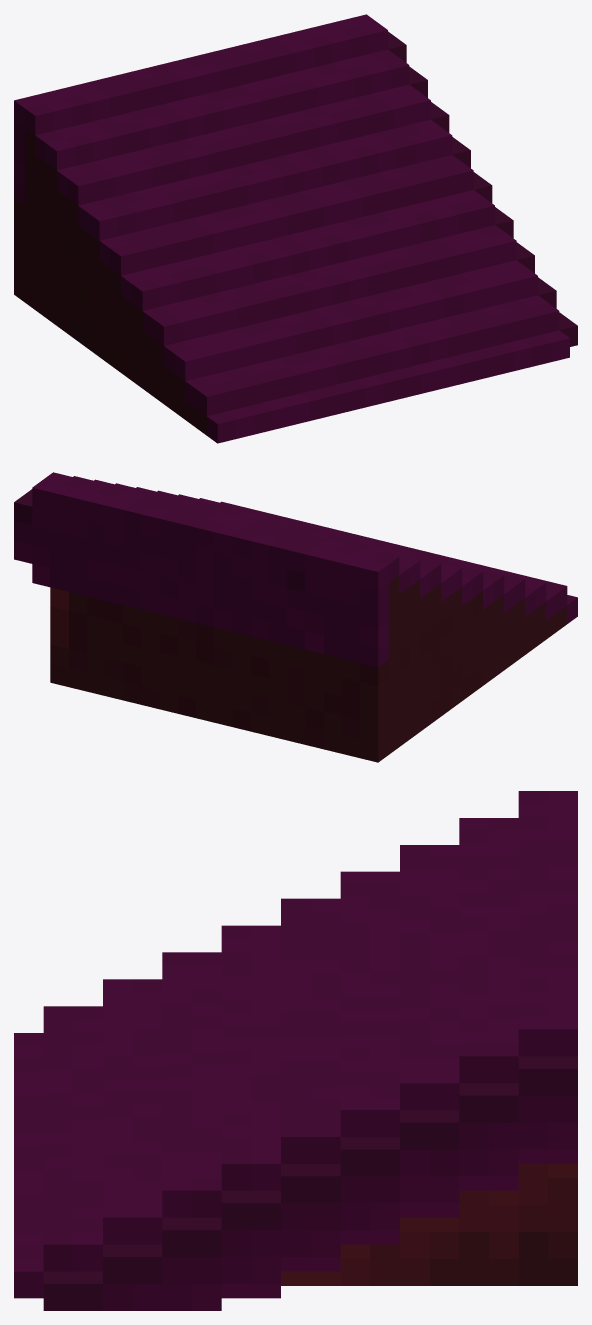
Rendered from half_top_ramp_bot_right.glb.
3 views of the same model, one above another, from view 1: azimuth 30°, elevation 25°; view 2: azimuth 150°, elevation 25°; view 3: azimuth 270°, elevation 25° (orthographic). The views are drawn at different scales.
Visible parts, largest first — view 1: half_top_ramp_bot_right; view 2: half_top_ramp_bot_right; view 3: half_top_ramp_bot_right.
Part boxes in pixels (box(x1,y1,x2,y2)): half_top_ramp_bot_right: box(14, 14, 577, 443); half_top_ramp_bot_right: box(14, 472, 577, 762); half_top_ramp_bot_right: box(14, 791, 577, 1310).
Size of the model in its own units: 2 by 1 by 1.9.
Materials: 1 (1 with a texture image).
